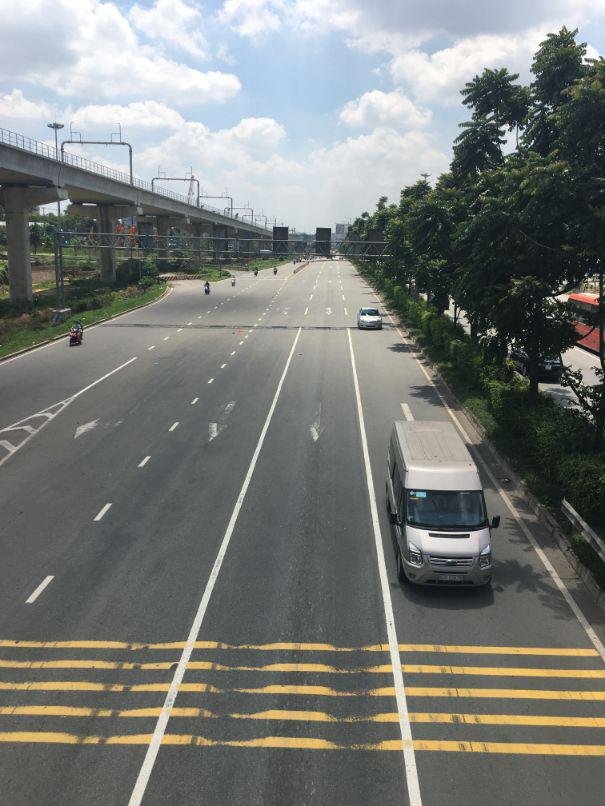car: (386, 413, 495, 588), (357, 305, 382, 329)
motorbike: (69, 323, 85, 347)
